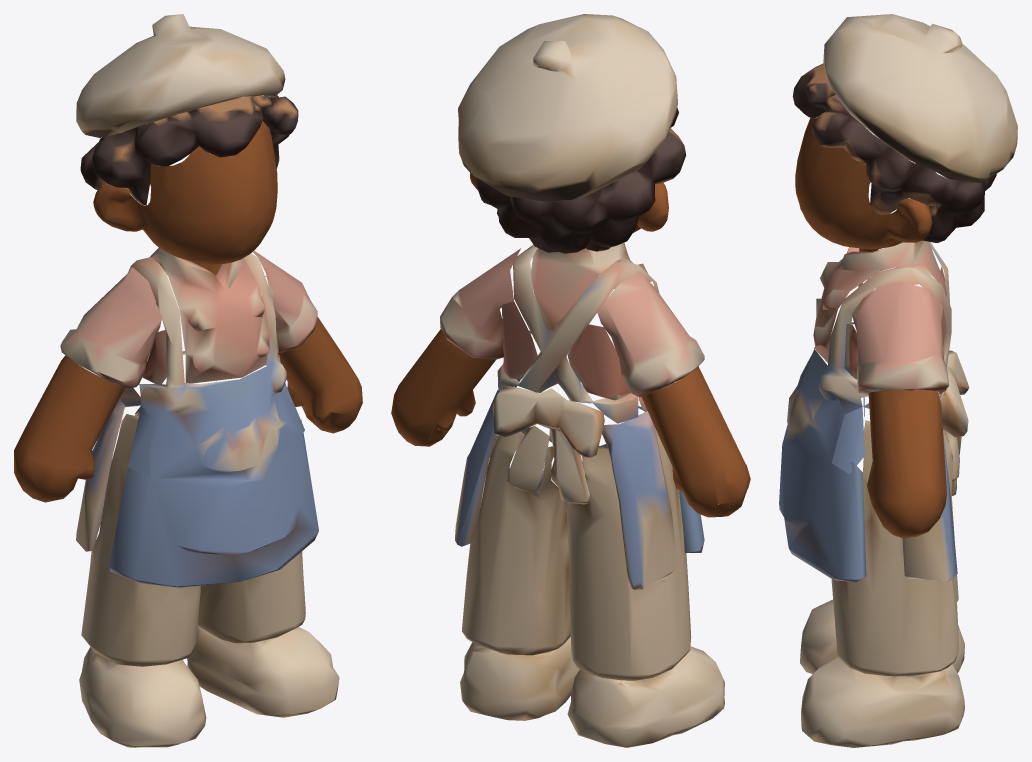
3 views of the same model, side by side, from view 1: azimuth 30°, elevation 25°; view 2: azimuth 150°, elevation 25°; view 3: azimuth 270°, elevation 25° (orthographic). The views are drawn at different scales.
Visible parts, largest first — view 1: top, bottom, head, acc_head_0, sleeve_r, hair, shoe_l, hand_r, shoe_r, hand_l, sleeve_l; view 2: bottom, acc_head_0, top, sleeve_r, shoe_r, hair, sleeve_l, hand_r, shoe_l, hand_l, head; view 3: top, acc_head_0, bottom, sleeve_l, shoe_l, hand_l, hair, head, shoe_r.
Boxes of the visible parts, x1=… form: top: x1=109, y1=248, x2=318, y2=587; bottom: x1=81, y1=414, x2=305, y2=666; head: x1=93, y1=121, x2=277, y2=275; acc_head_0: x1=76, y1=14, x2=285, y2=137; sleeve_r: x1=60, y1=267, x2=166, y2=551; hair: x1=80, y1=95, x2=298, y2=205; shoe_l: x1=187, y1=626, x2=339, y2=717; hand_r: x1=14, y1=355, x2=124, y2=502; shoe_r: x1=79, y1=647, x2=206, y2=747; hand_l: x1=278, y1=317, x2=362, y2=433; sleeve_l: x1=253, y1=250, x2=317, y2=434; bottom: x1=462, y1=428, x2=691, y2=680; acc_head_0: x1=458, y1=14, x2=677, y2=201; top: x1=492, y1=242, x2=704, y2=552; sleeve_r: x1=597, y1=271, x2=704, y2=589; shoe_r: x1=567, y1=646, x2=724, y2=747; hair: x1=475, y1=107, x2=686, y2=253; sleeve_l: x1=440, y1=248, x2=549, y2=546; hand_r: x1=641, y1=366, x2=750, y2=517; shoe_l: x1=460, y1=636, x2=579, y2=720; hand_l: x1=391, y1=329, x2=496, y2=446; head: x1=470, y1=173, x2=668, y2=232; top: x1=779, y1=240, x2=969, y2=582; acc_head_0: x1=823, y1=14, x2=1017, y2=182; bottom: x1=831, y1=420, x2=959, y2=676; sleeve_l: x1=831, y1=281, x2=959, y2=580; shoe_l: x1=801, y1=657, x2=964, y2=747; hand_l: x1=867, y1=390, x2=946, y2=538; hair: x1=792, y1=63, x2=996, y2=243; head: x1=795, y1=117, x2=932, y2=251; shoe_r: x1=800, y1=599, x2=964, y2=673.
Size of the model in its own units: 0.5474 by 1.03 by 0.3321.
